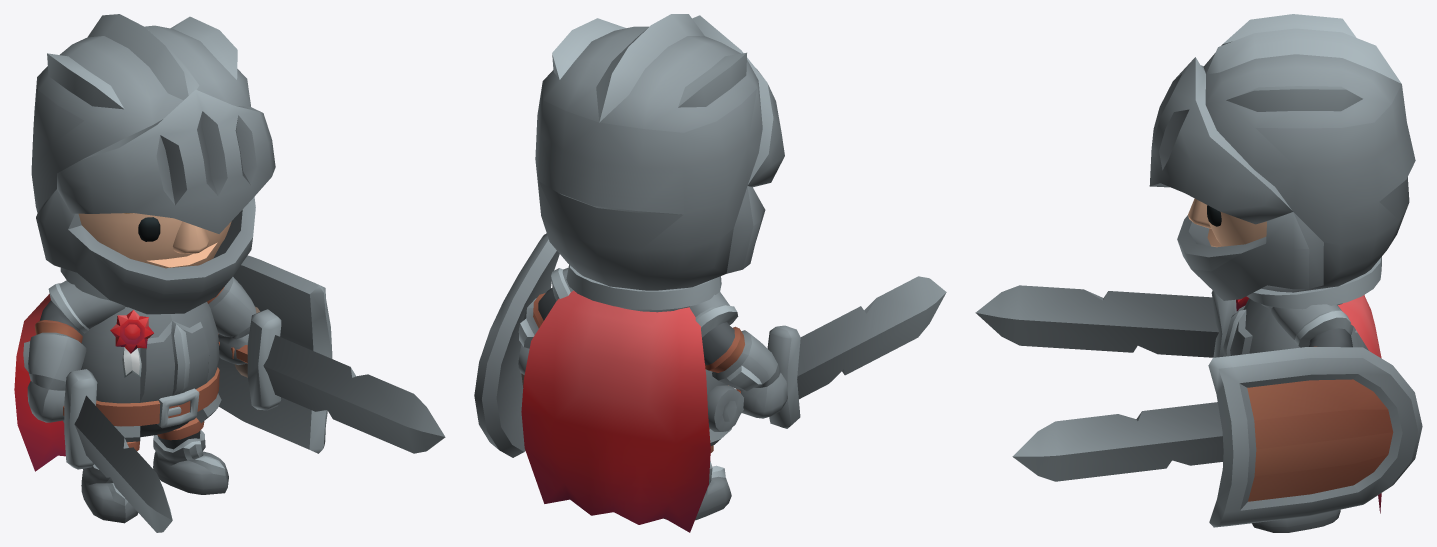
Rendered from KnightLicensed.fbx.
3 views of the same model, side by side, from view 1: azimuth 30°, elevation 25°; view 2: azimuth 150°, elevation 25°; view 3: azimuth 270°, elevation 25° (orthographic). The views are drawn at different scales.
Visible parts, largest first — view 1: KnightLicensed; view 2: KnightLicensed; view 3: KnightLicensed.
Part boxes in pixels (x1=…): KnightLicensed: x1=14, y1=14, x2=445, y2=532; KnightLicensed: x1=474, y1=14, x2=946, y2=532; KnightLicensed: x1=975, y1=14, x2=1422, y2=532.
Bounding box in the file's own units: 1.61 × 2.44 × 2.11.
